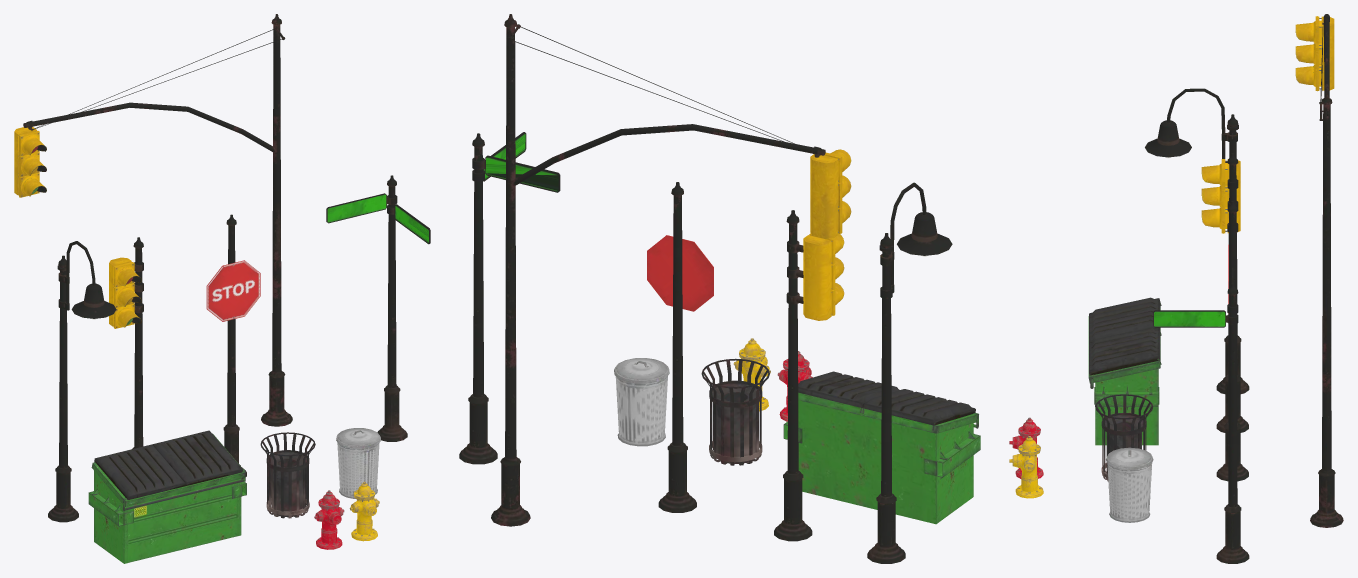
File: props.glb
The picture shows the model from 3 angles, left to right: view 1: azimuth 30°, elevation 25°; view 2: azimuth 150°, elevation 25°; view 3: azimuth 270°, elevation 25°; orthographic projection. The views are drawn at different scales.
Visible parts, largest first — view 1: metal street props low poly.006, metal street props low poly, metal street props low poly.008, metal street props low poly.005, metal street props low poly.012, metal street props low poly.011, metal street props low poly.001, metal street props low poly.007, metal street props low poly.002, metal street props low poly.003; view 2: metal street props low poly.006, metal street props low poly, metal street props low poly.011, metal street props low poly.005, metal street props low poly.012, metal street props low poly.008, metal street props low poly.001, metal street props low poly.007, metal street props low poly.003; view 3: metal street props low poly.006, metal street props low poly, metal street props low poly.008, metal street props low poly.007, metal street props low poly.011, metal street props low poly.012, metal street props low poly.001, metal street props low poly.005, metal street props low poly.003, metal street props low poly.002.
Part boxes in pixels (left/top/right/bottom): metal street props low poly.006: left=88, top=430, right=246, bottom=563; metal street props low poly: left=14, top=14, right=292, bottom=426; metal street props low poly.008: left=326, top=175, right=430, bottom=441; metal street props low poly.005: left=206, top=214, right=260, bottom=479; metal street props low poly.012: left=48, top=241, right=116, bottom=522; metal street props low poly.011: left=109, top=237, right=143, bottom=448; metal street props low poly.001: left=260, top=432, right=315, bottom=518; metal street props low poly.007: left=336, top=428, right=380, bottom=498; metal street props low poly.002: left=314, top=490, right=344, bottom=549; metal street props low poly.003: left=349, top=481, right=379, bottom=541; metal street props low poly.006: left=783, top=371, right=980, bottom=524; metal street props low poly: left=491, top=14, right=851, bottom=526; metal street props low poly.011: left=774, top=210, right=844, bottom=541; metal street props low poly.005: left=647, top=182, right=713, bottom=512; metal street props low poly.012: left=867, top=182, right=952, bottom=563; metal street props low poly.008: left=459, top=132, right=560, bottom=464; metal street props low poly.001: left=701, top=358, right=769, bottom=465; metal street props low poly.007: left=614, top=358, right=669, bottom=446; metal street props low poly.003: left=733, top=338, right=770, bottom=411; metal street props low poly.006: left=1088, top=297, right=1161, bottom=445; metal street props low poly: left=1295, top=14, right=1343, bottom=527; metal street props low poly.008: left=1153, top=267, right=1249, bottom=563; metal street props low poly.007: left=1106, top=447, right=1153, bottom=522; metal street props low poly.011: left=1201, top=153, right=1248, bottom=432; metal street props low poly.012: left=1145, top=88, right=1249, bottom=393; metal street props low poly.001: left=1095, top=394, right=1153, bottom=481; metal street props low poly.005: left=1216, top=201, right=1248, bottom=481; metal street props low poly.003: left=1009, top=436, right=1043, bottom=498; metal street props low poly.002: left=1009, top=417, right=1043, bottom=478.
Size of the model in its own units: 5.18 by 5.55 by 3.94.
1 material, 1 textured.
